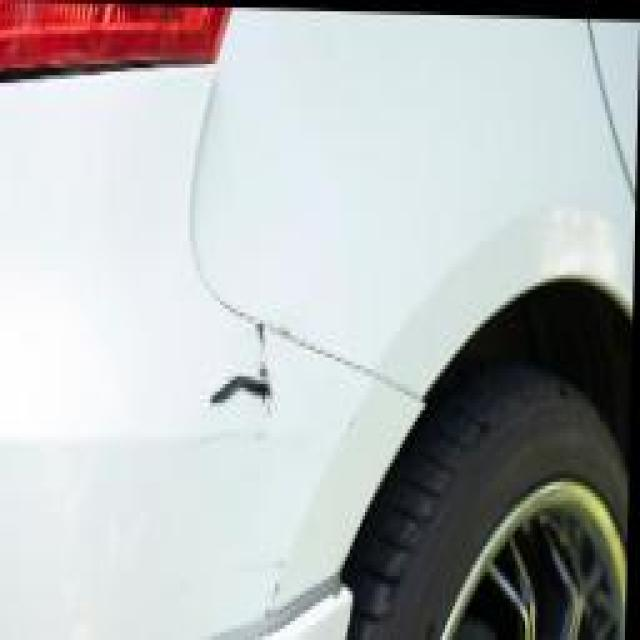Bumper: (190, 312, 293, 451)
